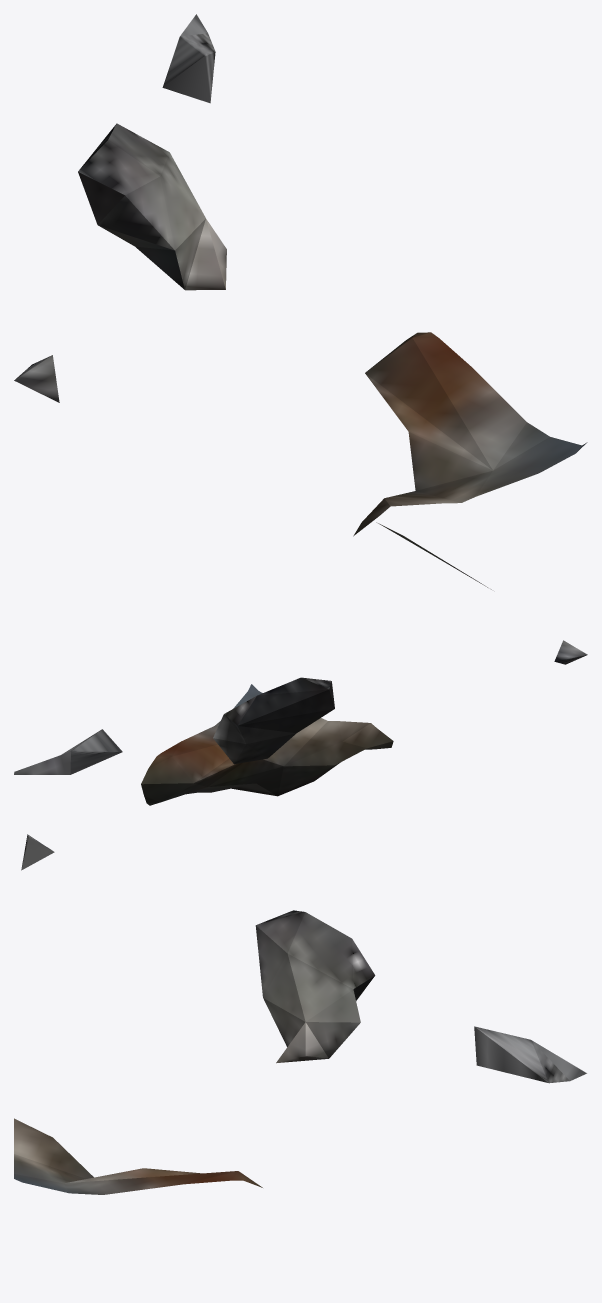
The picture shows the model from 3 angles, top to bottom: view 1: azimuth 30°, elevation 25°; view 2: azimuth 150°, elevation 25°; view 3: azimuth 270°, elevation 25°; orthographic projection. The views are drawn at different scales.
Size of the model in its own units: 0.16 by 0.1029 by 0.1924.
1 material, 1 textured.
